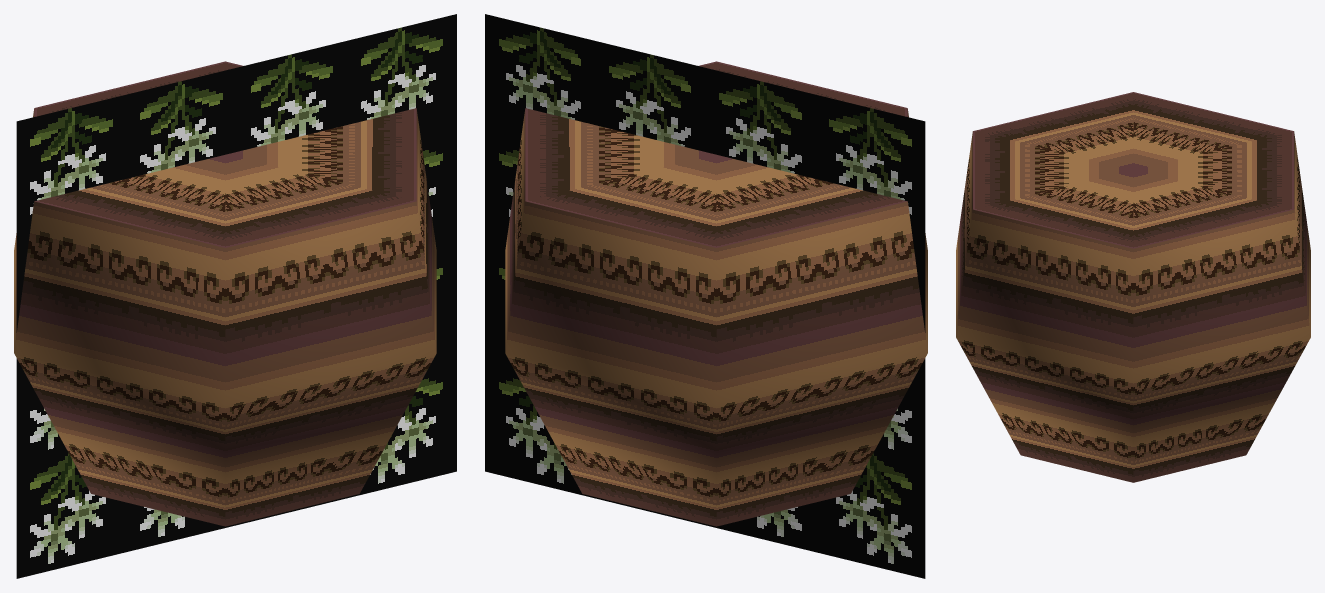
File: 5356hana1_jasm.gltf
The picture shows the model from 3 angles, left to right: view 1: azimuth 30°, elevation 25°; view 2: azimuth 150°, elevation 25°; view 3: azimuth 270°, elevation 25°; orthographic projection. The views are drawn at different scales.
Parts seen in each view (by area): view 1: 5356hana1_jasm; view 2: 5356hana1_jasm; view 3: 5356hana1_jasm.
Boxes of the visible parts, x1,y1,x2,y2 form: 5356hana1_jasm: (14, 14, 456, 578); 5356hana1_jasm: (485, 14, 927, 578); 5356hana1_jasm: (956, 92, 1310, 482).
Bounding box in the file's own units: 0.6606 × 0.6523 × 0.5459.
2 materials, 2 textured.
